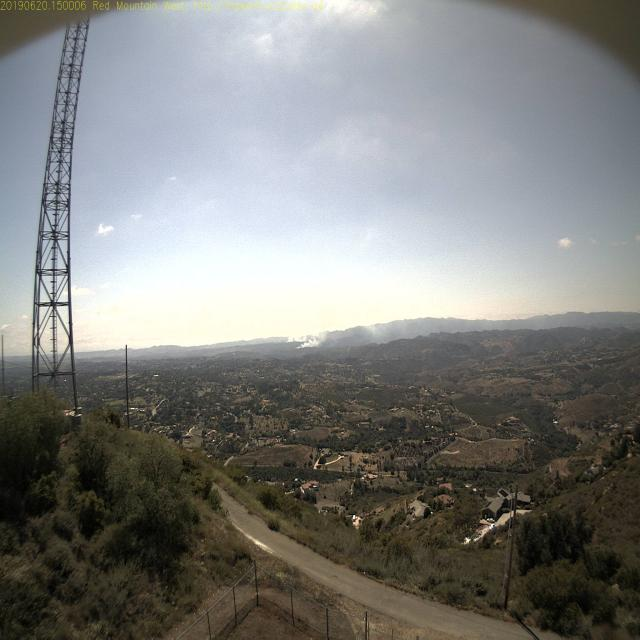smoke: (294, 334, 322, 356), (284, 328, 300, 352)
